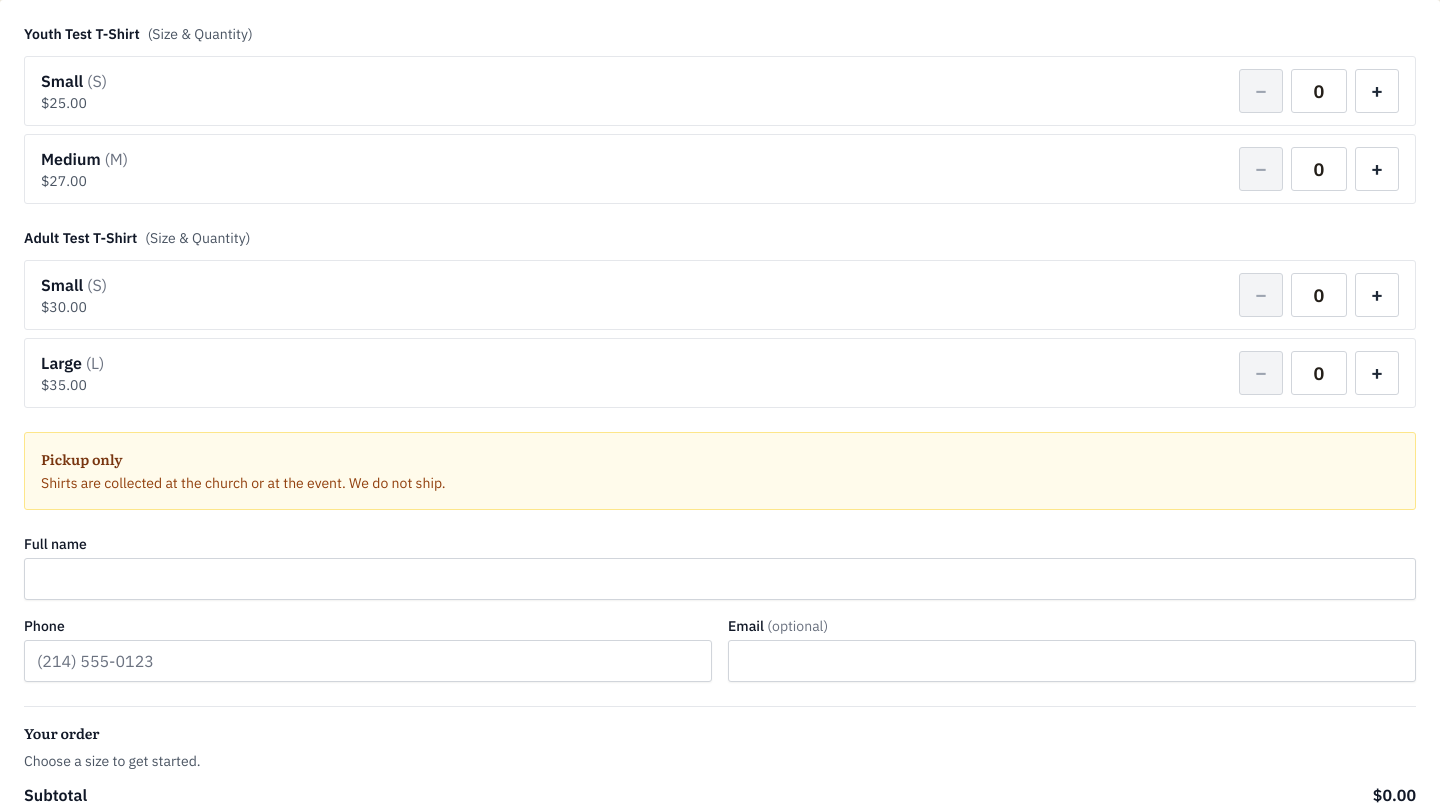
Test: ShirtOrderForm — sizes and quantities › counts a youth small separately from an adult small
Replace the text in the number field labelled "Small (S)" in the row of "$25.00" with "2" at (1319, 91), box top-left (1291, 69), bottom-right (1347, 113)
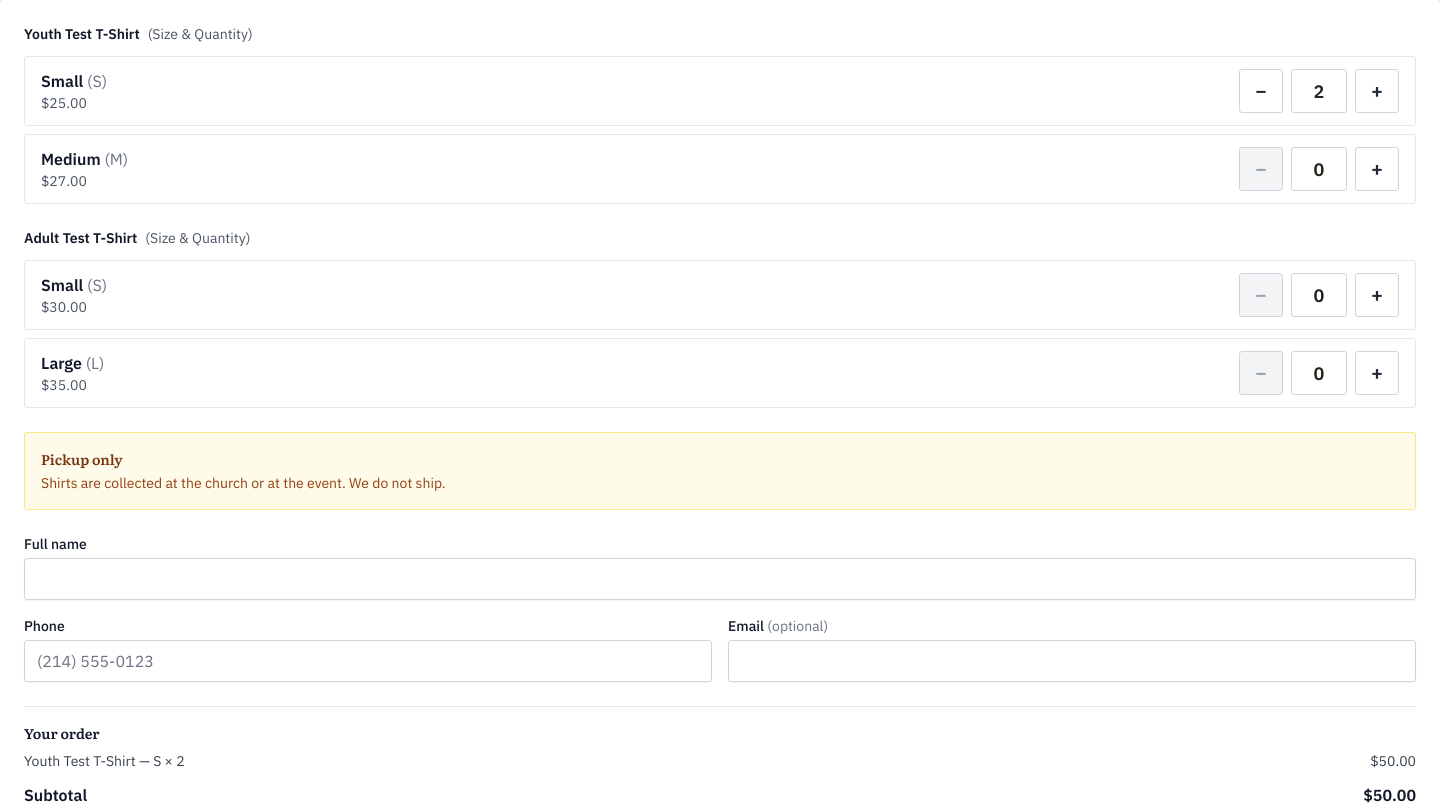
Now the text with test id "merch-subtotal" reads "$50.00", box top-left (1363, 785), bottom-right (1416, 805)
